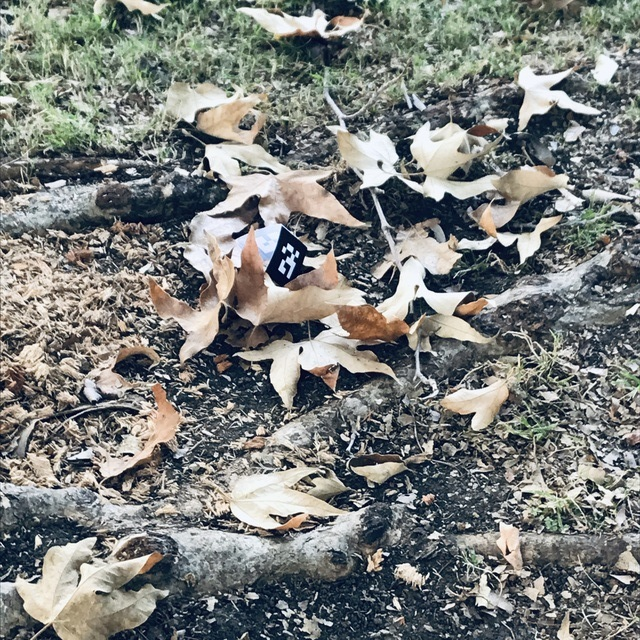ARTag: (234, 223, 308, 291)
